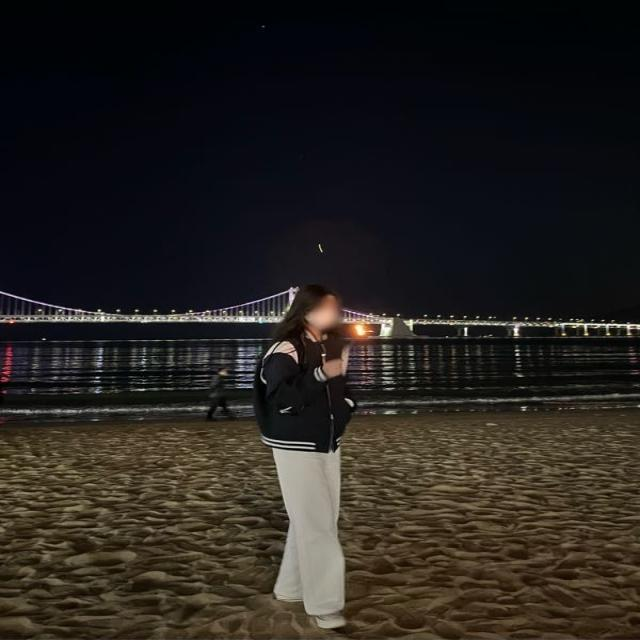jacket: (253, 330, 356, 452)
trainingpants: (265, 447, 348, 615)
